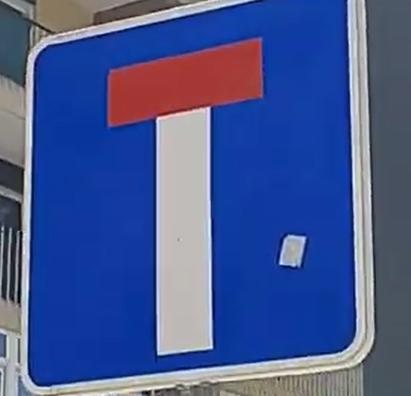via publica sem saida: (7, 1, 392, 388)
